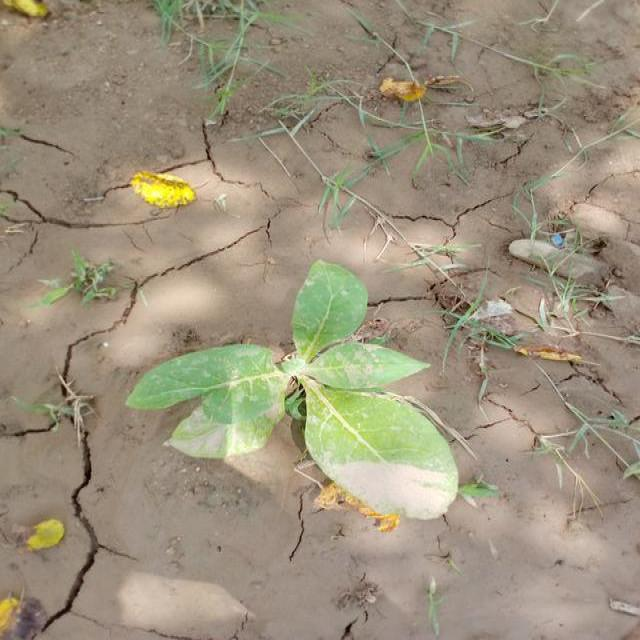crop: (134, 255, 459, 518)
